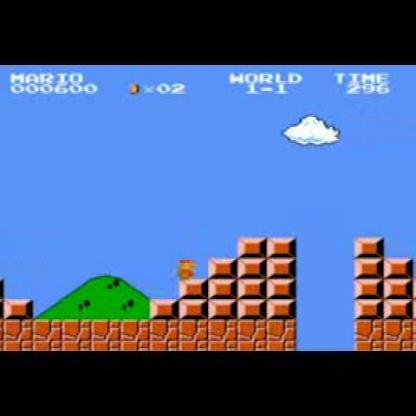Hoyo: (291, 320, 359, 349)
